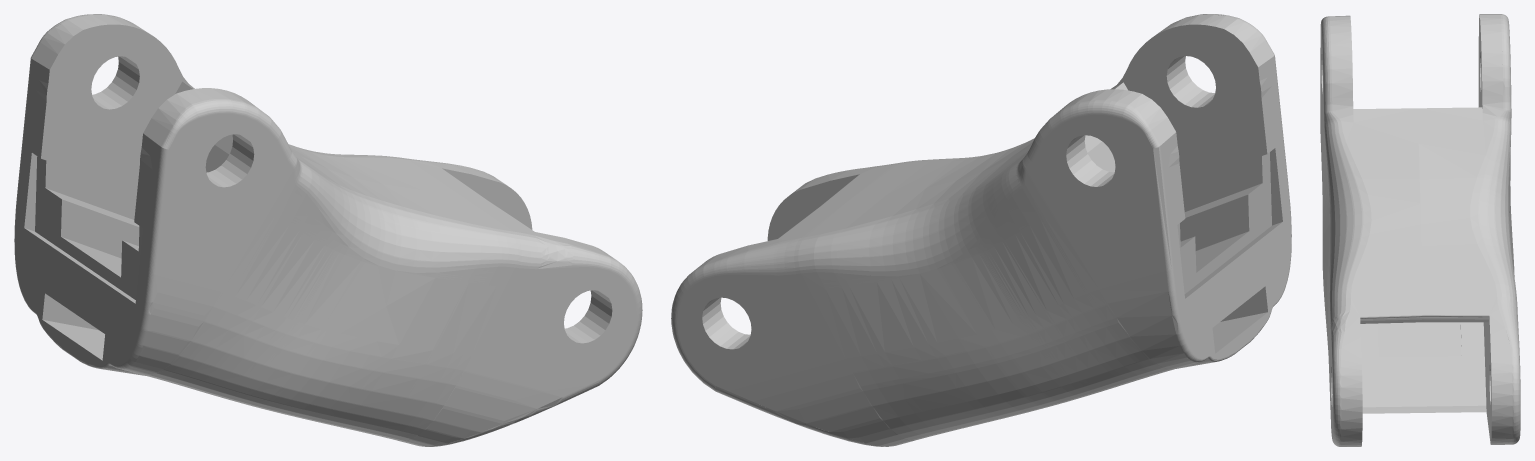
The model's file is finger_proximal_limb_1.dae.
3 renders of one model, left to right at view 1: azimuth 30°, elevation 25°; view 2: azimuth 150°, elevation 25°; view 3: azimuth 270°, elevation 25°, orthographic. The views are drawn at different scales.
Visible parts, largest first — view 1: node0; view 2: node0; view 3: node0.
Boxes of the visible parts, x1,y1,x2,y2 form: node0: (14,14,642,446); node0: (671,14,1291,446); node0: (1320,14,1520,446).
Size of the model in its own units: 0.0527 by 0.0406 by 0.024.
1 material, 1 textured.
